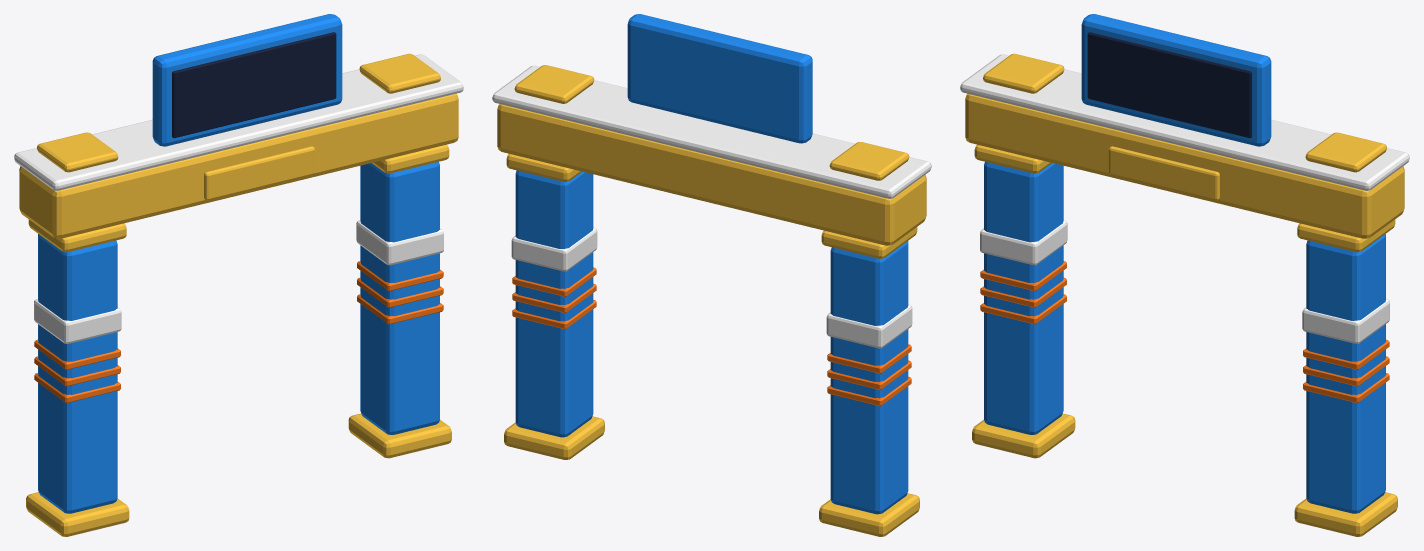
The model's file is stade_arche.fbx.
3 renders of one model, left to right at view 1: azimuth 30°, elevation 25°; view 2: azimuth 150°, elevation 25°; view 3: azimuth 330°, elevation 25°, orthographic. The views are drawn at different scales.
Visible parts, largest first — view 1: stade_arche_Bleu, stade_arche_Or, stade_arche_Blanc, stade_arche_Ecran, stade_arche_Orange, stade_arche_Plaque; view 2: stade_arche_Bleu, stade_arche_Or, stade_arche_Blanc, stade_arche_Orange; view 3: stade_arche_Bleu, stade_arche_Or, stade_arche_Blanc, stade_arche_Ecran, stade_arche_Orange, stade_arche_Plaque.
Boxes of the visible parts, box(x1,y1,x2,y2) form: stade_arche_Bleu: box(38, 14, 439, 513); stade_arche_Or: box(19, 53, 458, 536); stade_arche_Blanc: box(14, 54, 463, 343); stade_arche_Ecran: box(172, 32, 336, 138); stade_arche_Orange: box(34, 261, 443, 403); stade_arche_Plaque: box(204, 146, 314, 200); stade_arche_Bleu: box(515, 14, 908, 514); stade_arche_Or: box(497, 65, 926, 536); stade_arche_Blanc: box(492, 65, 931, 348); stade_arche_Orange: box(512, 267, 911, 406); stade_arche_Bleu: box(984, 14, 1385, 513); stade_arche_Or: box(965, 53, 1404, 536); stade_arche_Blanc: box(960, 54, 1409, 343); stade_arche_Ecran: box(1087, 32, 1251, 138); stade_arche_Orange: box(980, 261, 1389, 403); stade_arche_Plaque: box(1109, 146, 1219, 200).
Bounding box in the file's own units: 33.6 × 35 × 6.15.
